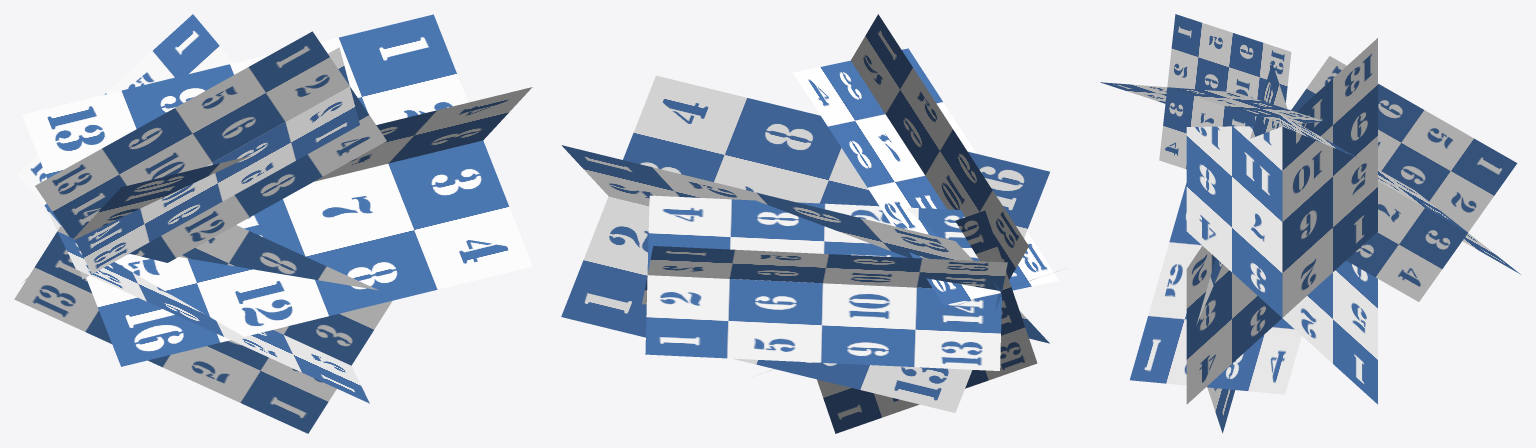
File: Spike2.fbx
The picture shows the model from 3 angles, left to right: view 1: azimuth 30°, elevation 25°; view 2: azimuth 150°, elevation 25°; view 3: azimuth 270°, elevation 25°; orthographic projection. The views are drawn at different scales.
Parts seen in each view (by area): view 1: SM_e_Useful_Spike002; view 2: SM_e_Useful_Spike002; view 3: SM_e_Useful_Spike002.
Boxes of the visible parts, x1,y1,x2,y2 form: SM_e_Useful_Spike002: (14, 14, 532, 433); SM_e_Useful_Spike002: (561, 14, 1059, 433); SM_e_Useful_Spike002: (1100, 14, 1520, 433).
Size of the model in its own units: 81.73 by 72.48 by 67.63.
